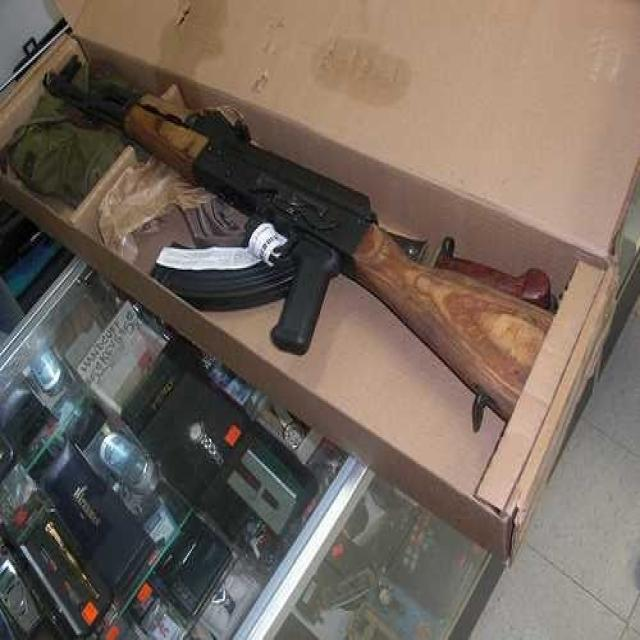Rifle: (43, 38, 578, 404)
